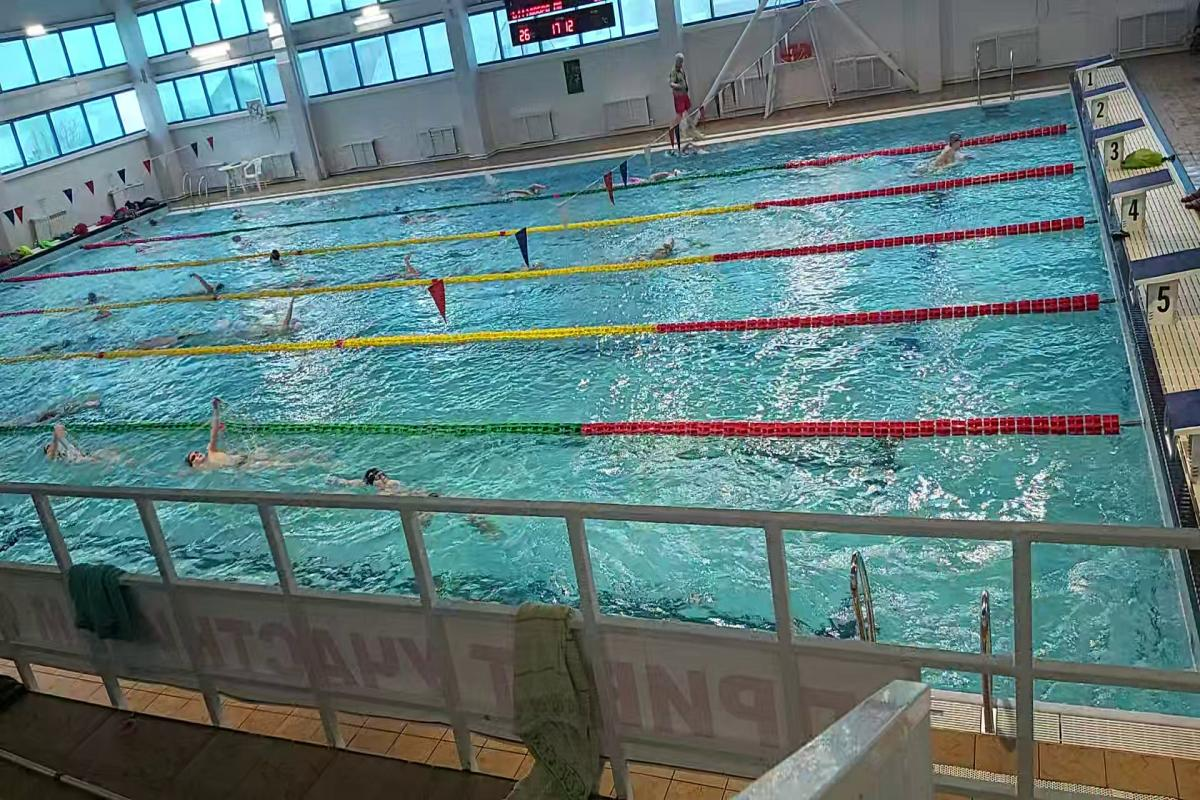swimmer: (181, 420, 289, 475), (29, 430, 137, 471), (330, 469, 438, 496), (925, 128, 974, 173), (630, 239, 690, 262), (135, 328, 197, 348), (186, 271, 232, 295), (388, 256, 433, 280), (266, 248, 290, 268)
